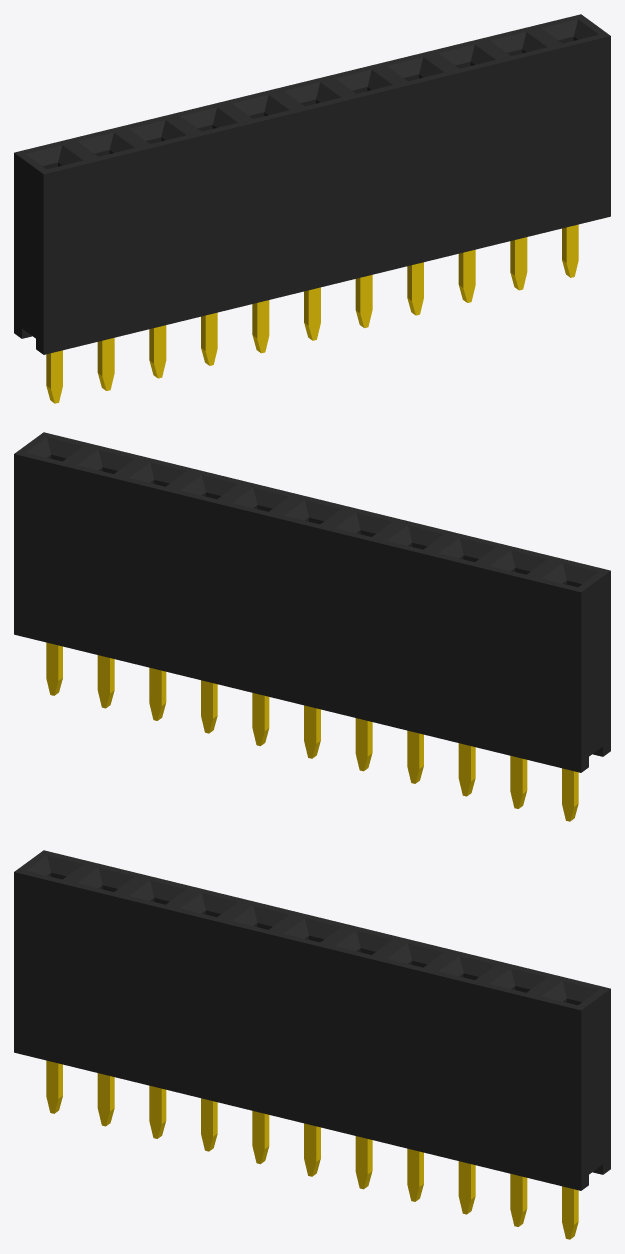
The model's file is PBS11.glb.
3 views of the same model, one above another, from view 1: azimuth 30°, elevation 25°; view 2: azimuth 150°, elevation 25°; view 3: azimuth 330°, elevation 25° (orthographic).
Parts seen in each view (by area): view 1: PBS (DS1023 CONNFLY); view 2: PBS (DS1023 CONNFLY); view 3: PBS (DS1023 CONNFLY).
Boxes of the visible parts, x1,y1,x2,y2 form: PBS (DS1023 CONNFLY): (14,14,610,403); PBS (DS1023 CONNFLY): (14,432,610,821); PBS (DS1023 CONNFLY): (14,850,610,1239).
Bounding box in the file's own units: 0.0279 × 0.0115 × 0.00254.
